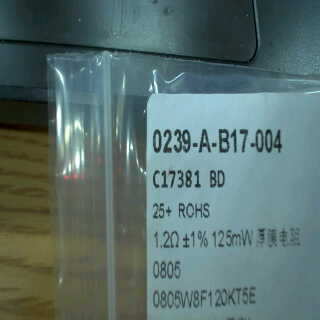1.2R: (152, 228, 180, 281)
